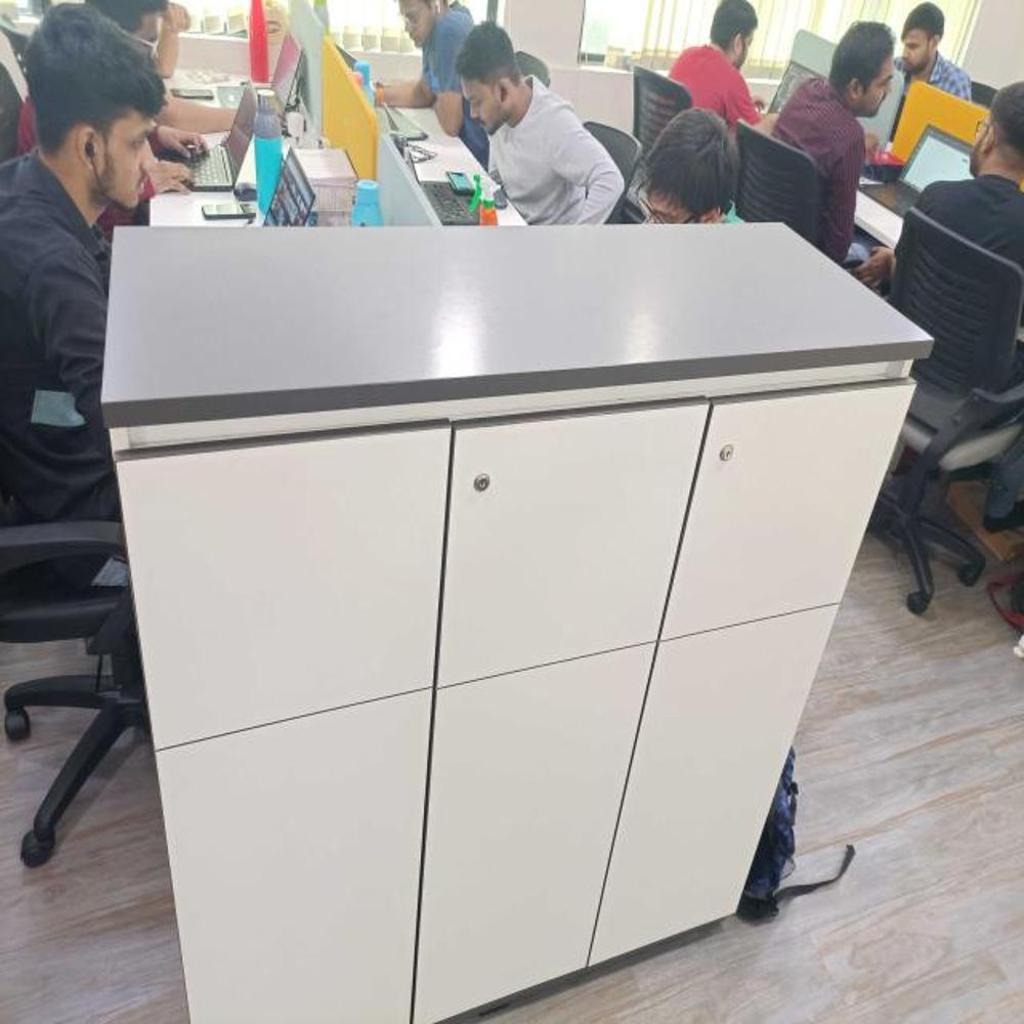cabinet: (102, 223, 933, 1022)
